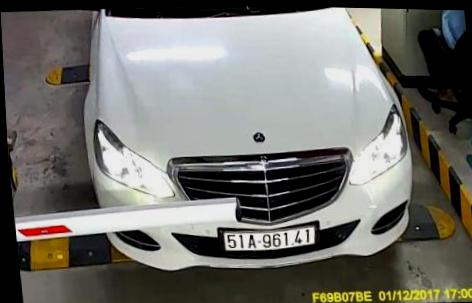License_Plate: (208, 218, 324, 262)
